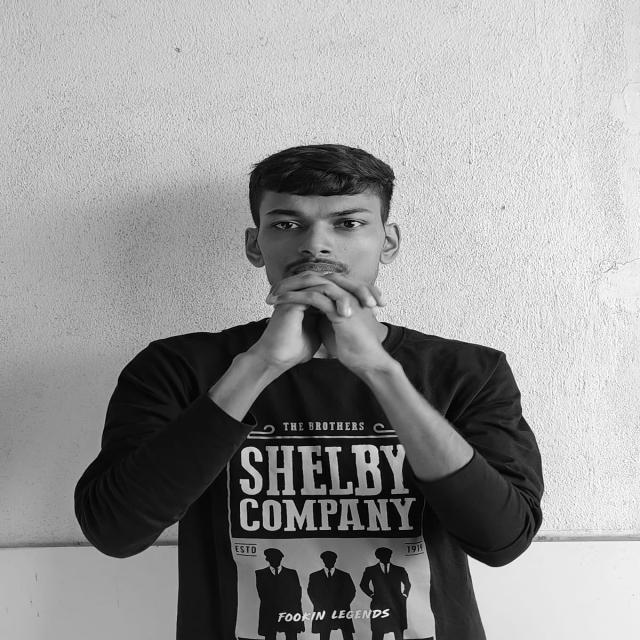Sorry: (254, 274, 394, 370)
